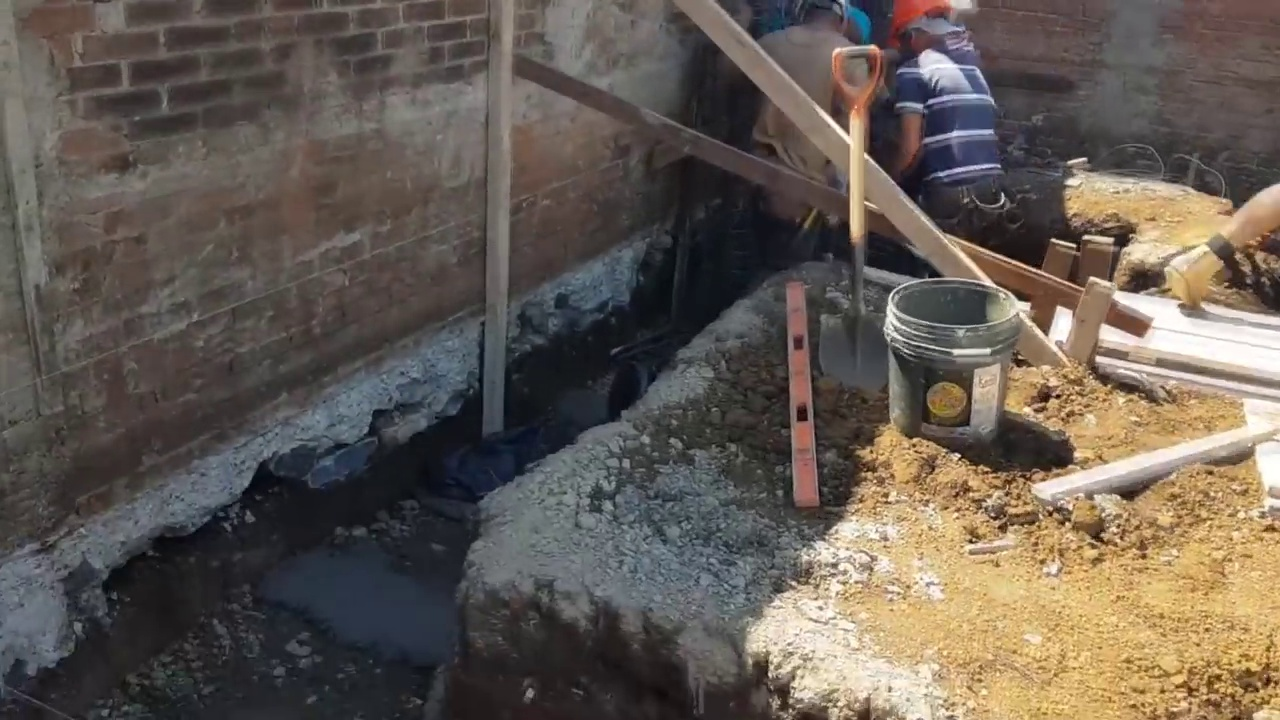helmet: (888, 2, 951, 47), (797, 0, 849, 30)
helmet-on: (890, 0, 967, 55), (794, 0, 850, 37)
person: (719, 0, 872, 229), (891, 0, 1020, 257)
